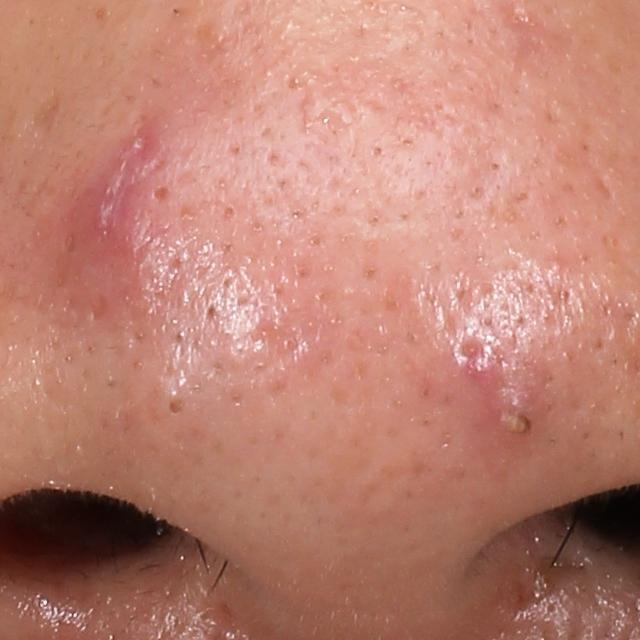atrophic_scar: (303, 72, 446, 147), (95, 120, 159, 242), (536, 269, 591, 336), (254, 313, 316, 367), (23, 88, 65, 149), (447, 267, 495, 314), (591, 164, 616, 206)
comedo: (167, 394, 184, 418), (222, 204, 240, 222)
pustule: (489, 387, 542, 444)
